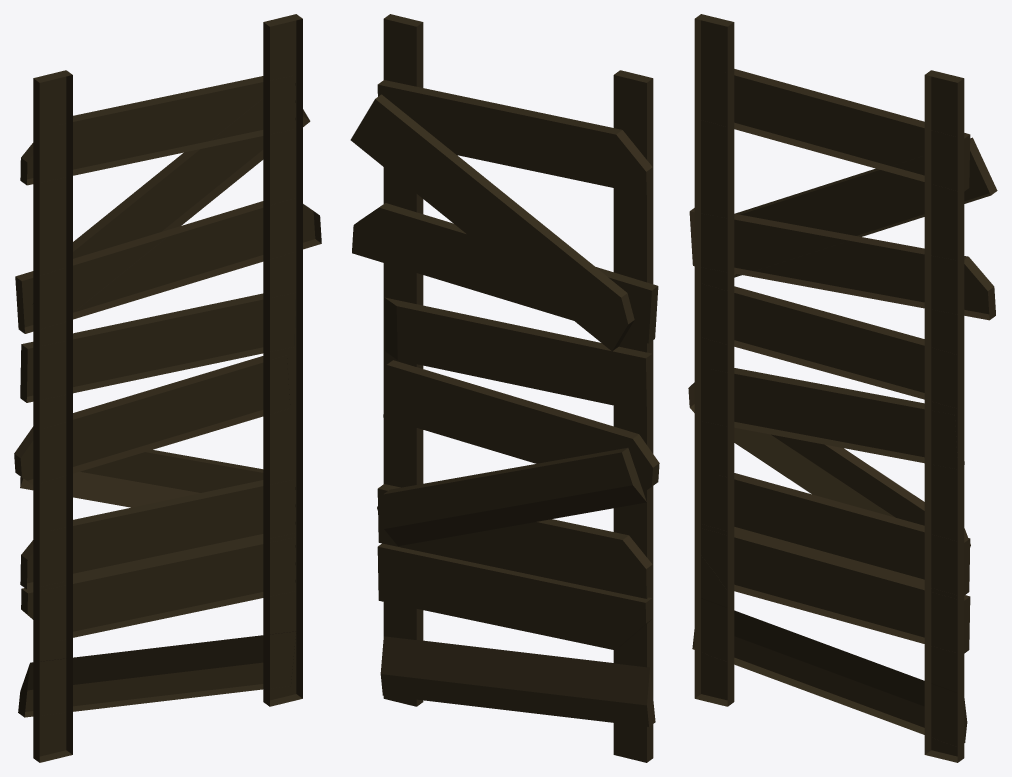
The model's file is Bridge 02.FBX.
3 renders of one model, left to right at view 1: azimuth 30°, elevation 25°; view 2: azimuth 150°, elevation 25°; view 3: azimuth 330°, elevation 25°, orthographic.
Visible parts, largest first — view 1: Bridge 02; view 2: Bridge 02; view 3: Bridge 02.
Part boxes in pixels (bbox=[...]): Bridge 02: bbox=[14, 14, 321, 762]; Bridge 02: bbox=[350, 14, 659, 762]; Bridge 02: bbox=[688, 14, 997, 762].
Size of the model in its own units: 241 by 521 by 27.13.
